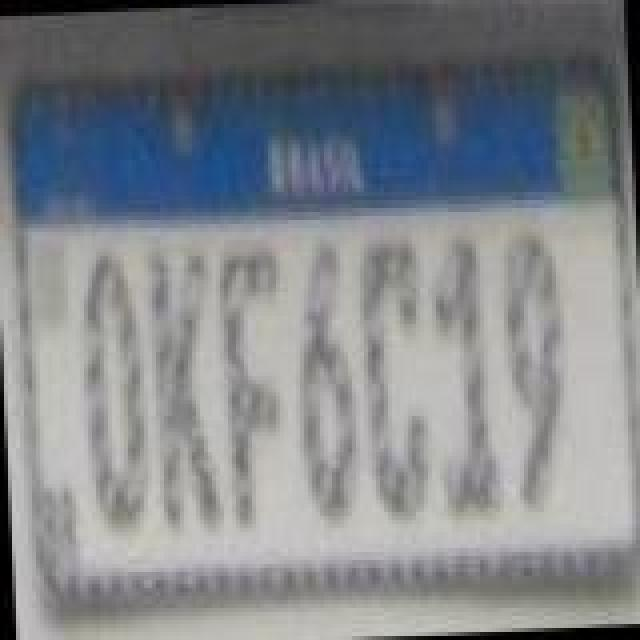1: (426, 234, 502, 518)
6: (290, 238, 366, 530)
9: (498, 232, 574, 512)
C: (350, 236, 434, 532)
F: (214, 244, 290, 532)
K: (144, 238, 224, 530)
O: (74, 246, 150, 538)
